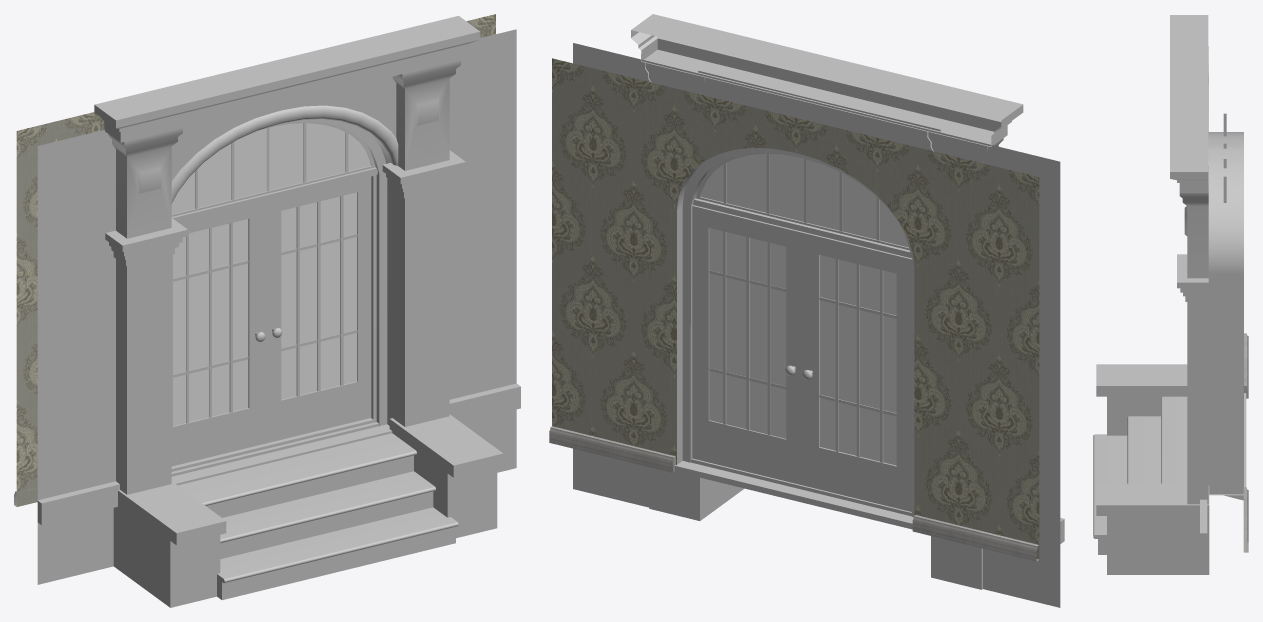
File: House_05_Wall_Door.fbx
The picture shows the model from 3 angles, left to right: view 1: azimuth 30°, elevation 25°; view 2: azimuth 150°, elevation 25°; view 3: azimuth 270°, elevation 25°; orthographic projection. The views are drawn at different scales.
Parts seen in each view (by area): view 1: House_05_Wall_Door_LOD0, House_05_Door_LOD0.001; view 2: House_05_Wall_Door_LOD0, House_05_Door_LOD0.001; view 3: House_05_Wall_Door_LOD0.
Part boxes in pixels (x1,y1,x2,y2): House_05_Wall_Door_LOD0: [14, 14, 520, 607]; House_05_Door_LOD0.001: [265, 176, 371, 443]; House_05_Wall_Door_LOD0: [549, 14, 1064, 607]; House_05_Door_LOD0.001: [692, 205, 802, 485]; House_05_Wall_Door_LOD0: [1093, 15, 1248, 574].
Size of what is drawn, in the model's own units: 400 by 372 by 127.
